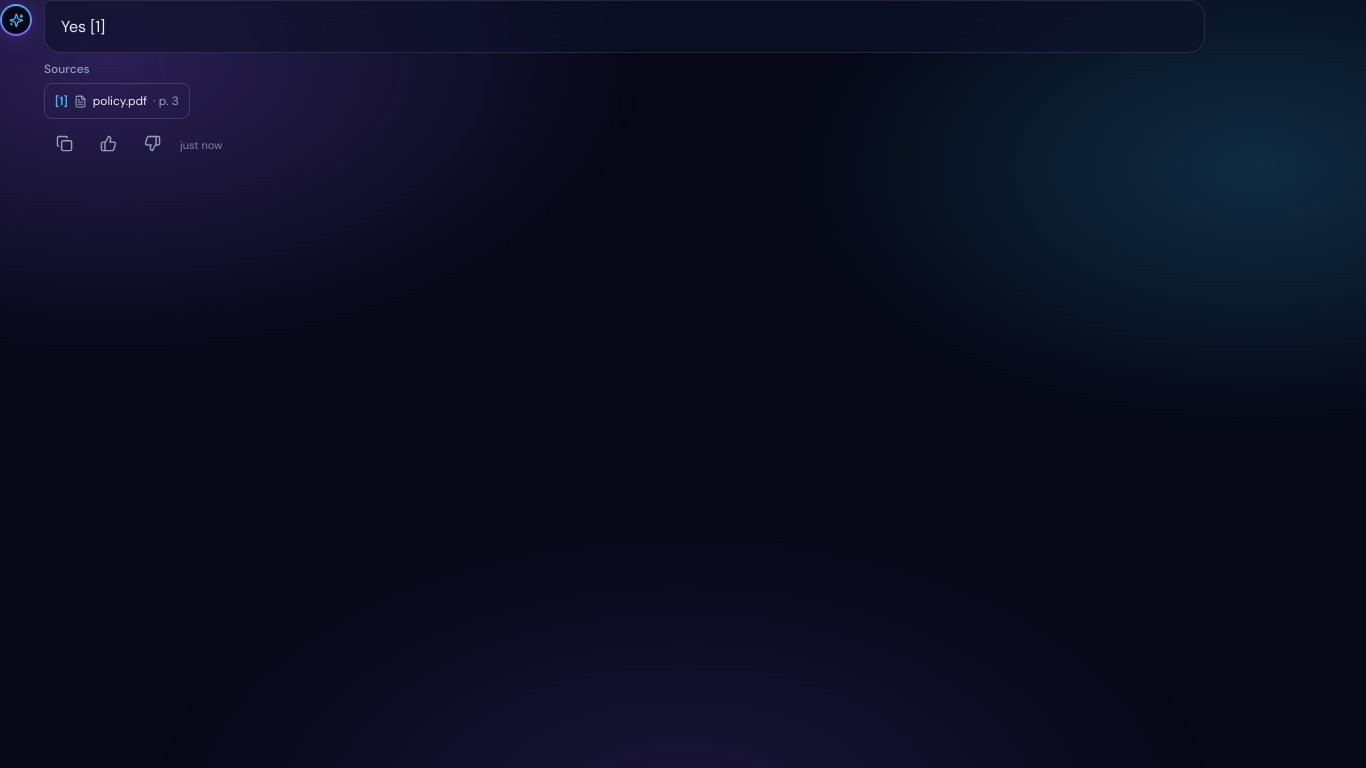
Test: ChatMessage › shows citations and reveals the passage
The image size is (1366, 768).
What coordinates should you click on to do the following:
click the button "[1] policy.pdf · p. 3"
I would click on:
 (117, 101)
Its box is [44, 83, 190, 119].
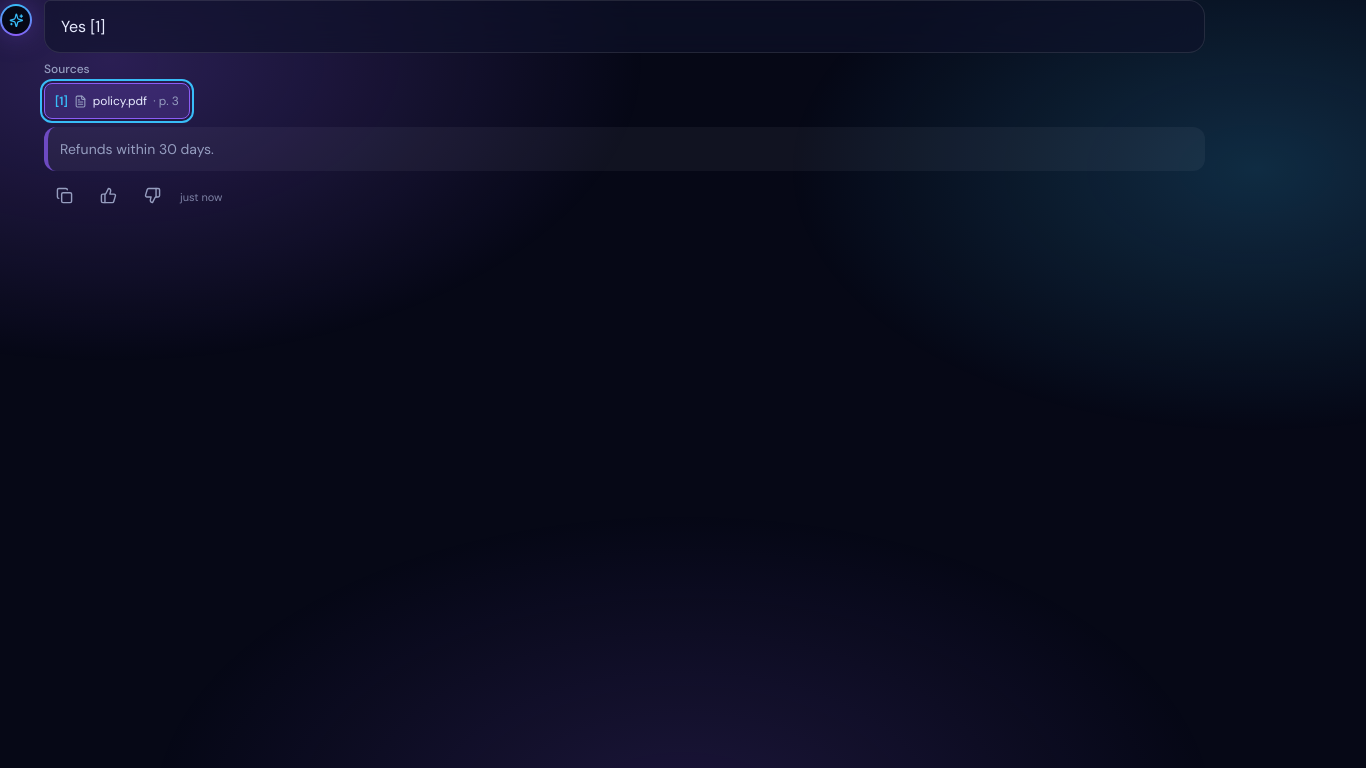
Expected: the text "Refunds within 30 days." is shown, [44, 127, 1205, 171]
